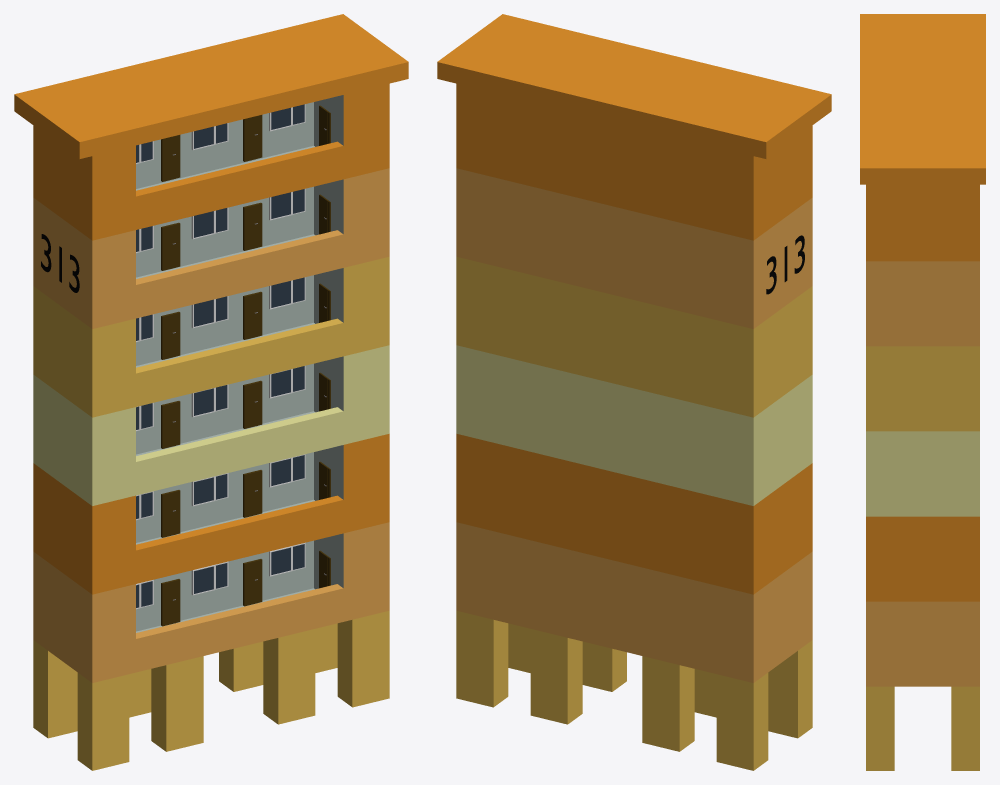
File: HDB_Orange.fbx
3 views of the same model, side by side, from view 1: azimuth 30°, elevation 25°; view 2: azimuth 150°, elevation 25°; view 3: azimuth 270°, elevation 25° (orthographic). The views are drawn at different scales.
Visible parts, largest first — view 1: Buidling, Window.017, Window.014, Window.018, Window.011, Window.015, Window.008, Window.012, Window.002, Window.009, Door.008, Door.009 (+13 smaller); view 2: Buidling; view 3: Buidling.
Boxes of the visible parts, x1,y1,x2,y2 form: Buidling: [14, 14, 408, 770]; Window.017: [191, 561, 228, 595]; Window.014: [191, 473, 228, 506]; Window.018: [269, 542, 305, 576]; Window.011: [191, 384, 228, 417]; Window.015: [269, 454, 305, 487]; Window.008: [191, 296, 228, 328]; Window.012: [269, 365, 305, 398]; Window.002: [191, 207, 228, 239]; Window.009: [269, 277, 305, 309]; Door.008: [243, 380, 262, 428]; Door.009: [161, 401, 180, 448]; Buidling: [437, 14, 831, 770]; Buidling: [860, 14, 985, 770].
Size of the model in its own units: 6422 by 11838 by 2214.
